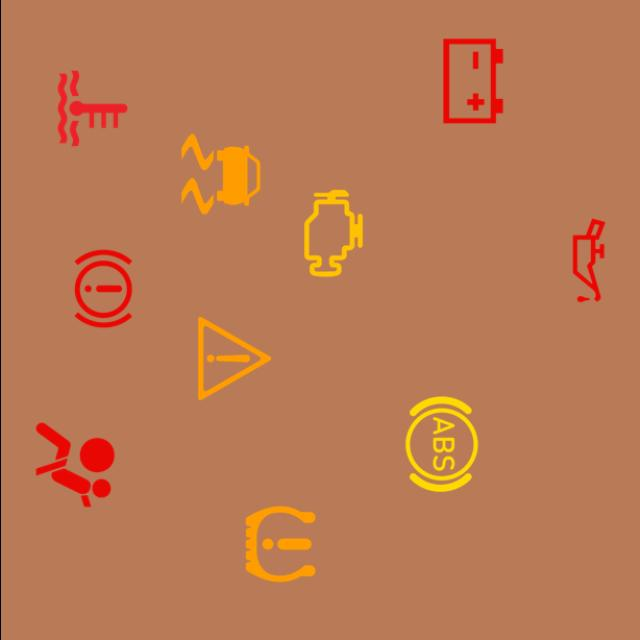Anti Lock Braking System: (389, 392, 493, 496)
Braking System Issue: (50, 237, 154, 341)
Charging System Issue: (420, 30, 524, 134)
Check Engine: (280, 182, 384, 286)
Electronic Stability Problem -ESP-: (168, 122, 272, 226)
Engine Overheating Warning Light: (40, 56, 144, 160)
Low Engine Oil Warning Light: (536, 208, 640, 312)
Low Tire Pressure Warning Light: (228, 492, 332, 596)
Master warning light: (182, 306, 286, 411)
SRS-Airbag: (22, 413, 126, 517)
